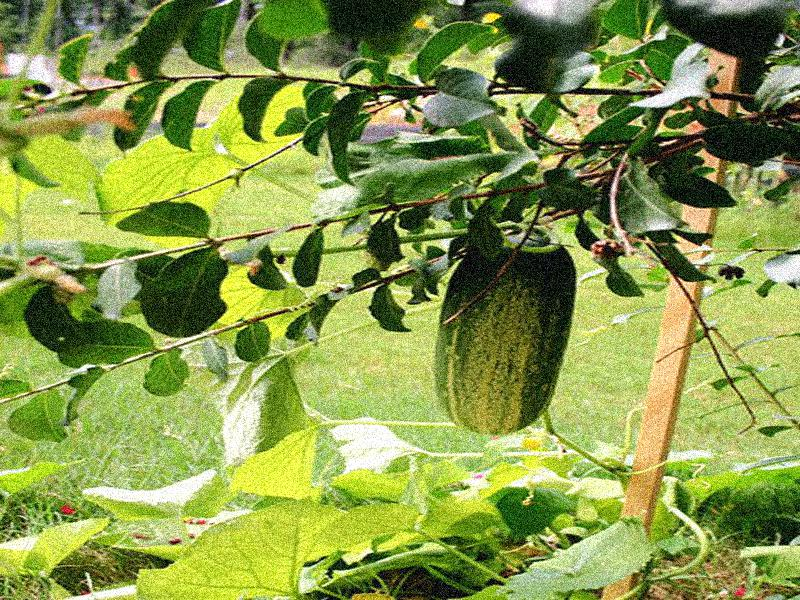Cucumber: (437, 223, 578, 436)
